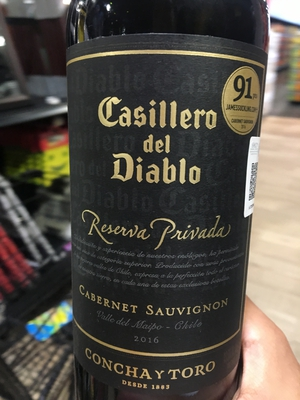casillero del diablo reserva privada cabernet sauvignon: (61, 6, 298, 400)
